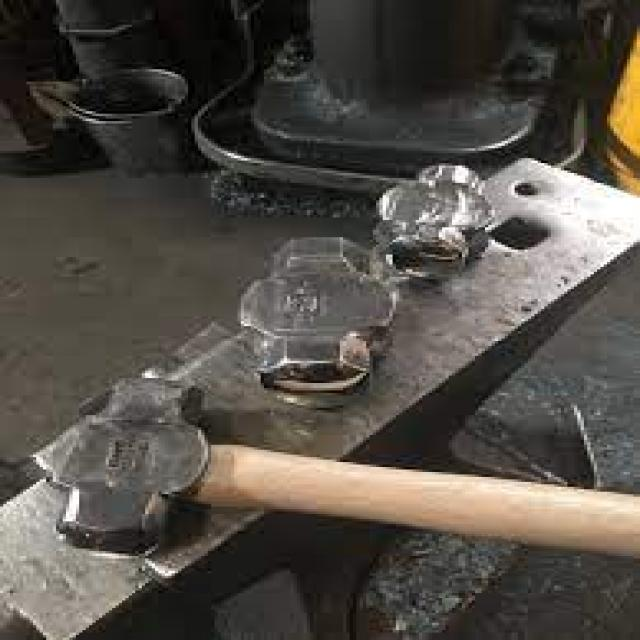hammer: (23, 369, 640, 572)
